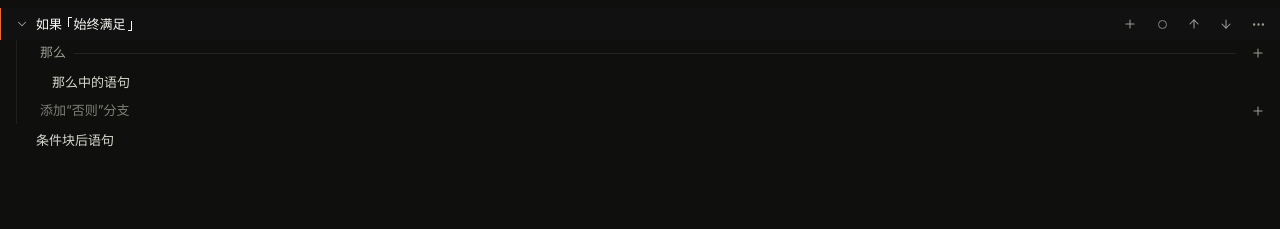
Scenario: ProgramStatementList › gives every branch the same nearby plus action and renders the search at the branch end
Expected: the number of list items with class "branch-row" is 2, [0,40,1279,66]; [0,98,1279,124]
Click the button named "在“那么”中插入语句" at (1258,53), box [1244,39,1272,67]
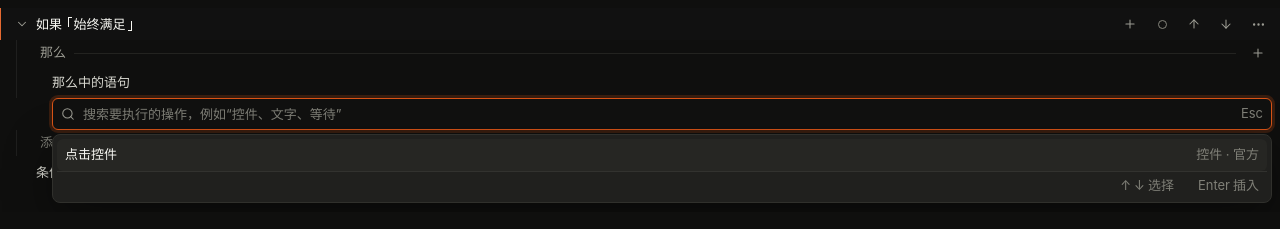
Press Escape in the dropdown with placeholder "搜索要执行的操作，例如“控件、文字、等待”", box [83,99,1233,129]
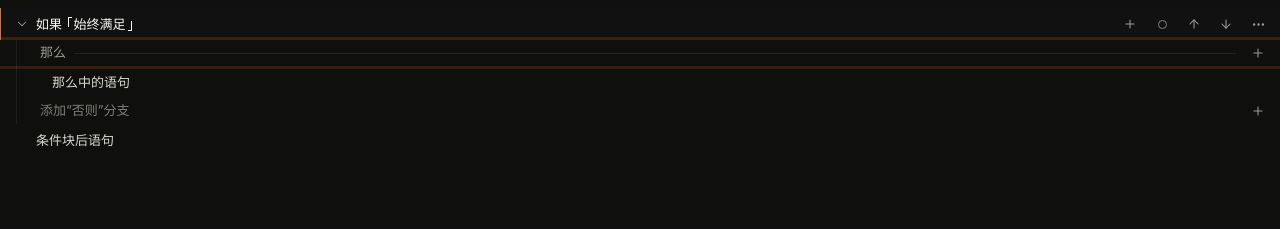
Click the button named "添加“否则”分支并插入语句" at (1258,111), box [1244,97,1272,125]
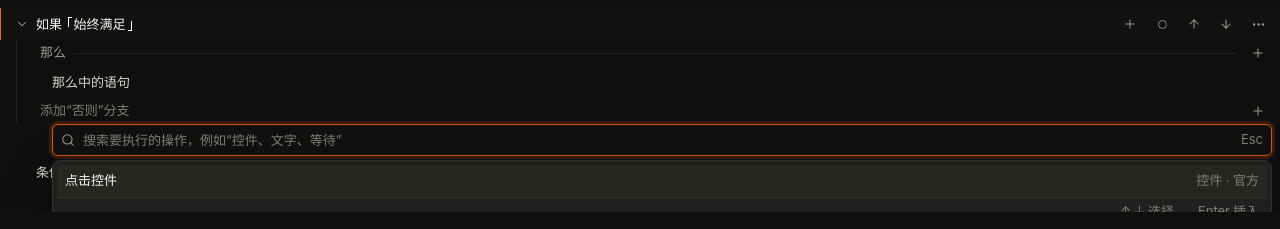
Result: the element showing "Esc 点击控件 控件 · 官方 ↑ ↓ 选择 Enter 插入" is shown at [0,124,1279,156]
